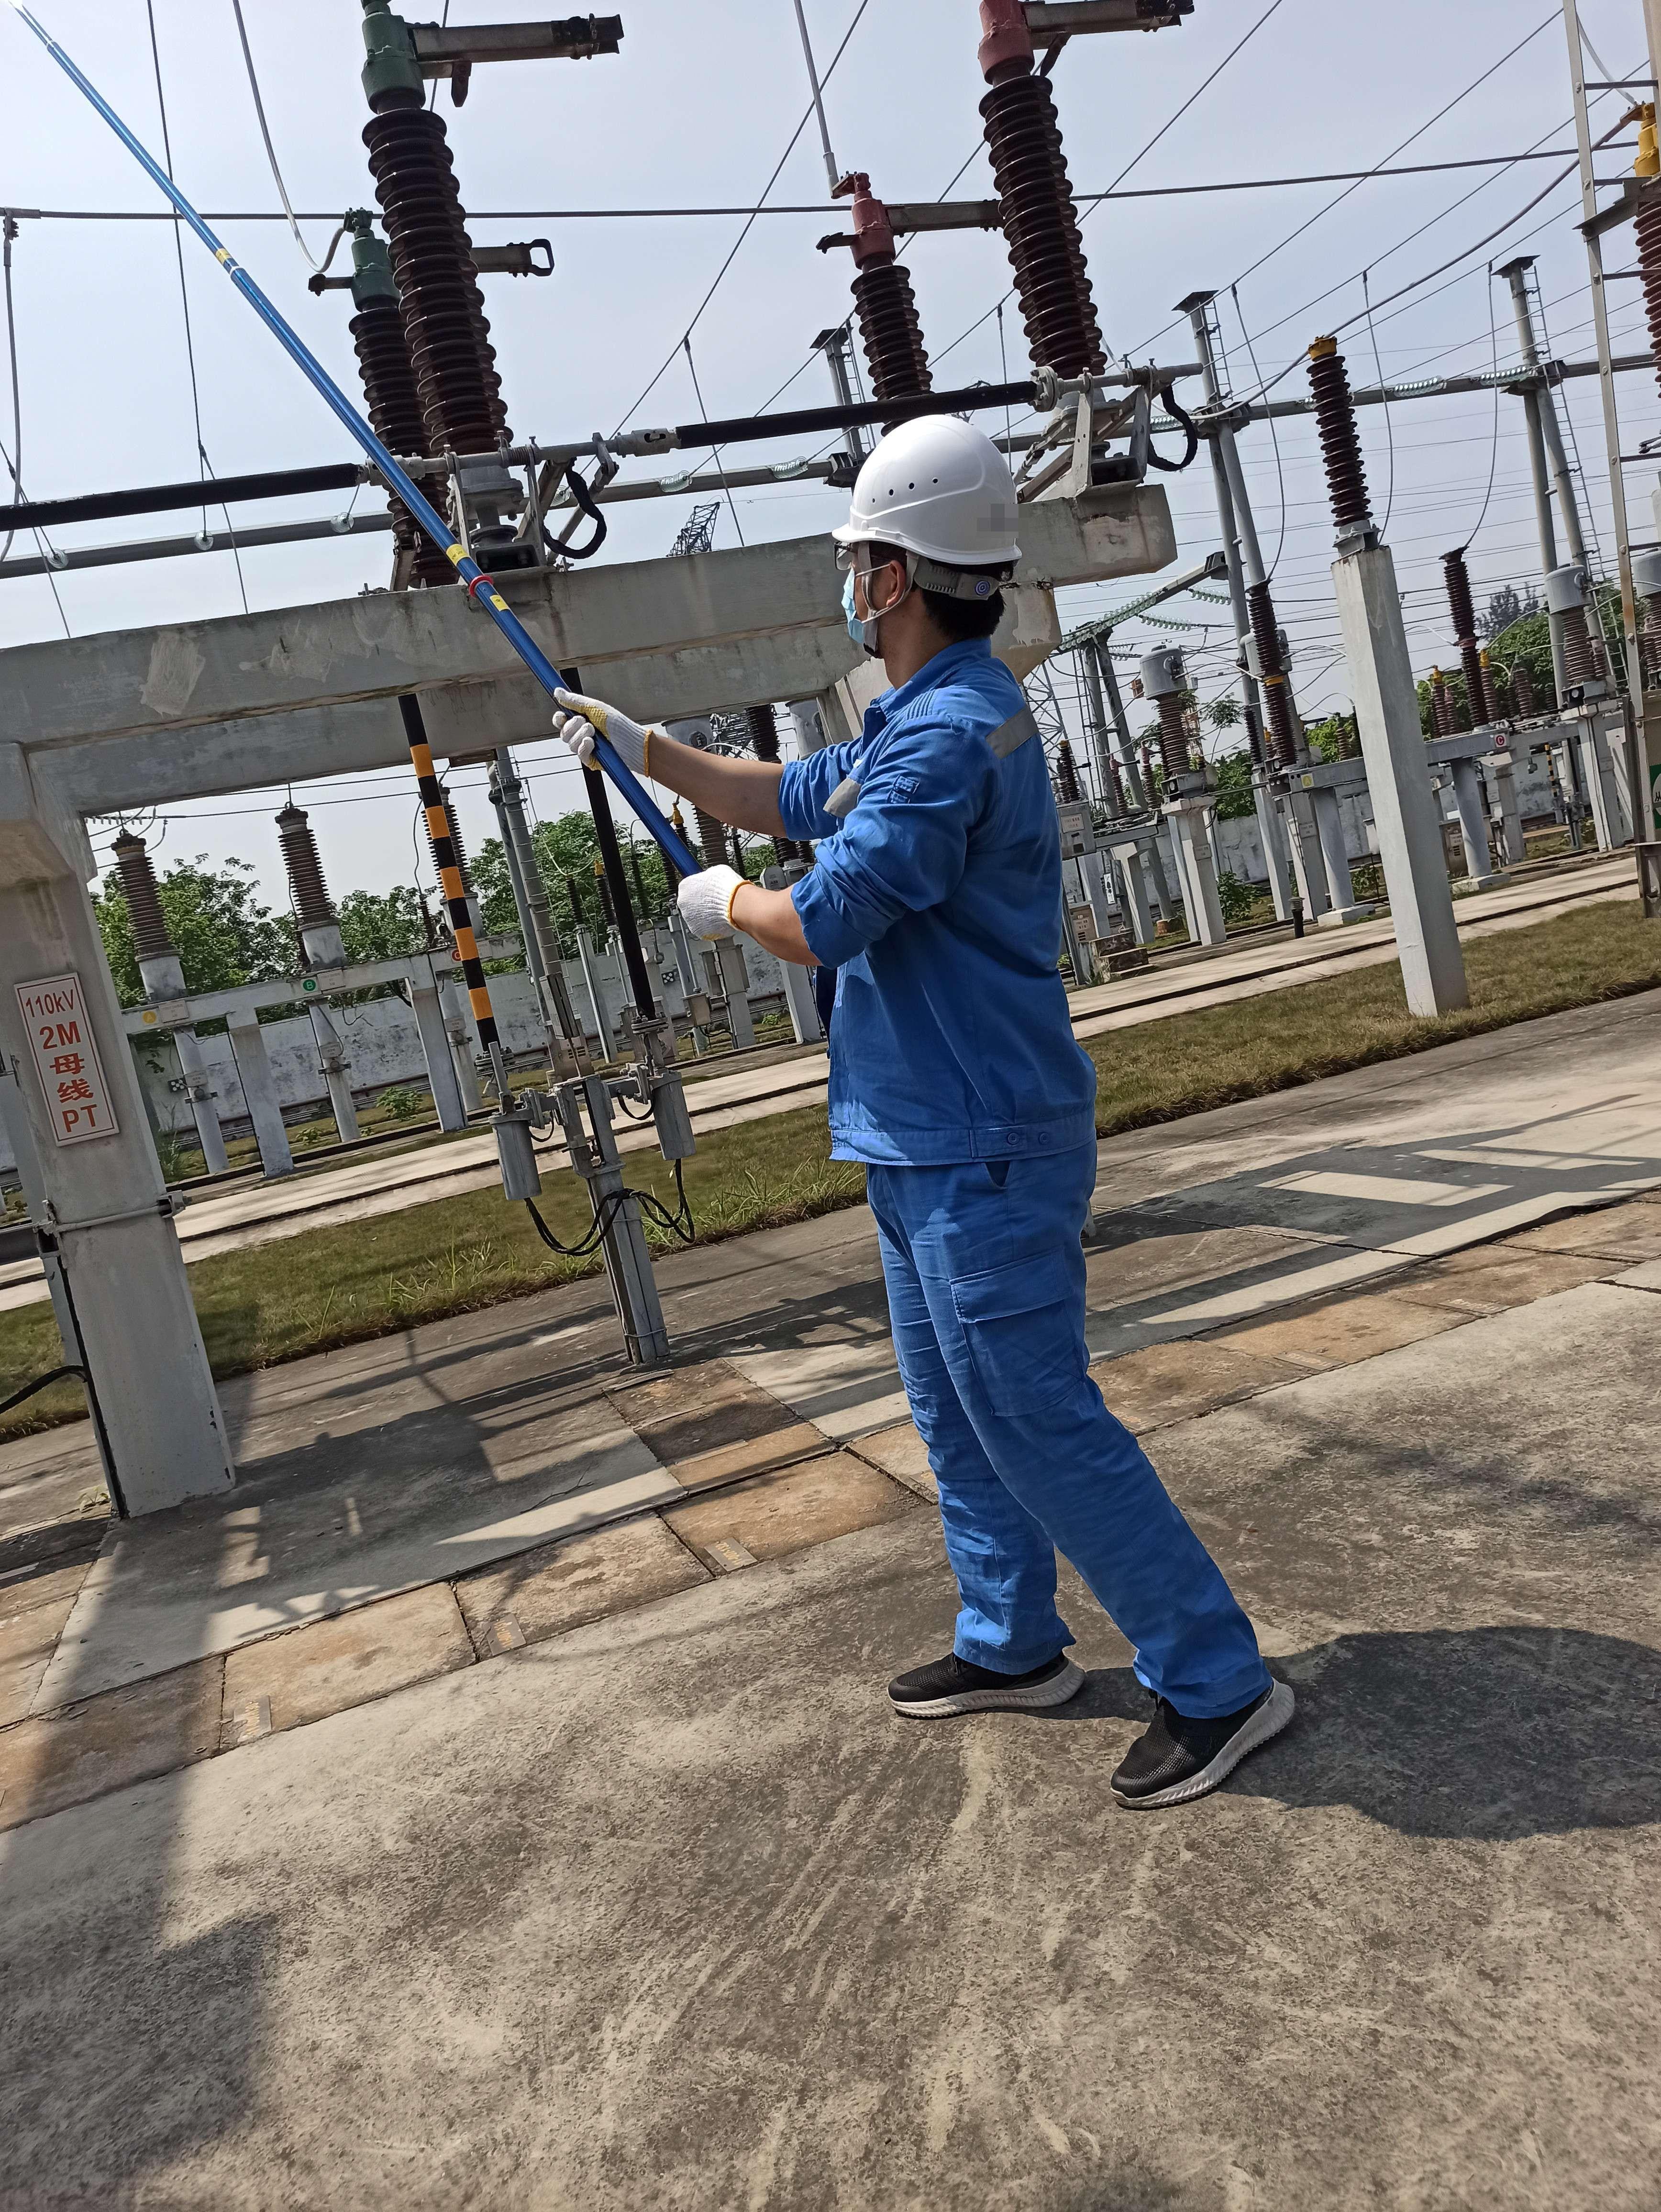downsuit: (871, 1185, 1263, 1711)
upsuit: (769, 647, 1101, 1164)
wrongtop: (633, 719, 824, 850), (717, 872, 832, 977)
